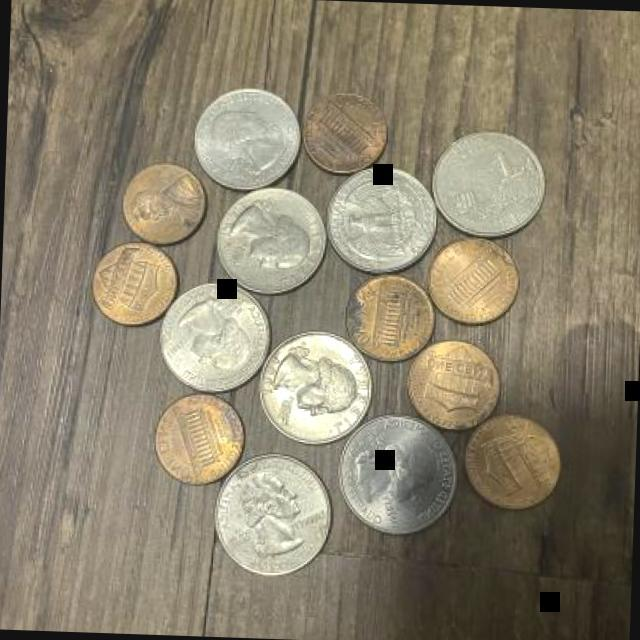Penny: (462, 413, 561, 510), (400, 336, 502, 428), (152, 388, 245, 488), (338, 272, 437, 365), (424, 235, 519, 327), (88, 239, 180, 330), (297, 88, 389, 174), (118, 158, 207, 243)
Quarter: (332, 410, 462, 536), (209, 450, 335, 578), (254, 326, 374, 444), (425, 126, 548, 237), (323, 163, 439, 280), (158, 276, 272, 394), (214, 186, 330, 294), (192, 83, 302, 194)
